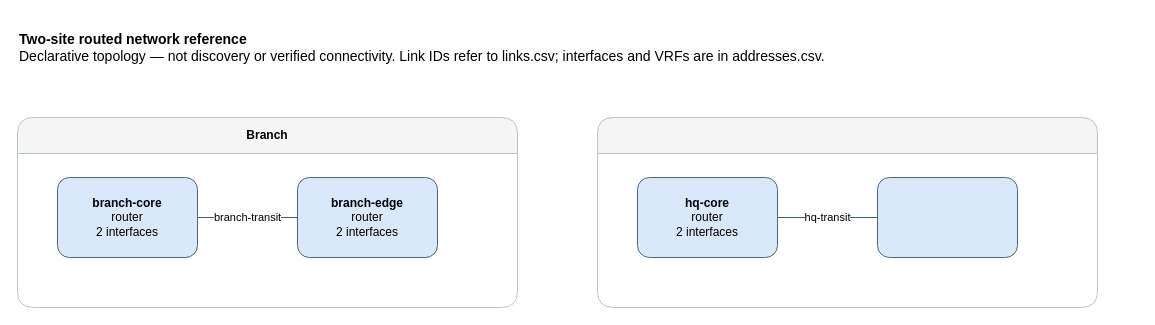
Image size: 1155x325. Some labels were removed from this diagram. The shapes that lost their labels are listed below. From the top down, each one's box as (x1, y1, x2, y2) in pixels, then its label:
(596, 116, 1098, 308): Headquarters
(876, 176, 1018, 258): hq-edge router 2 interfaces
